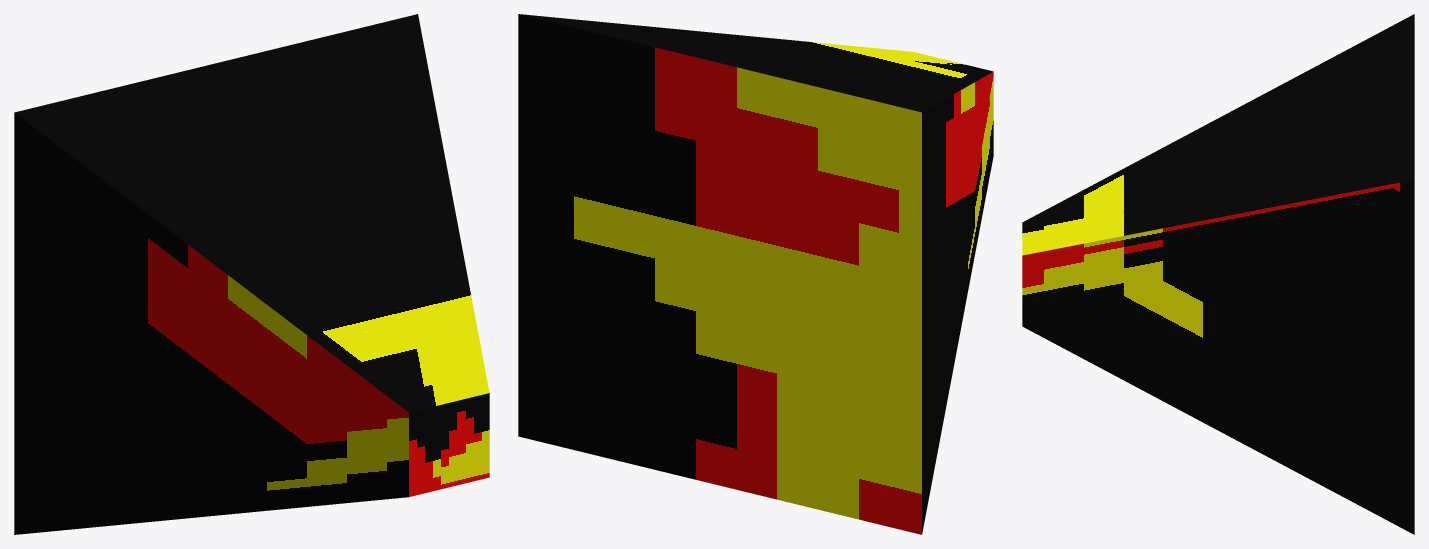
Rendered from kostka.obj.
The picture shows the model from 3 angles, left to right: view 1: azimuth 30°, elevation 25°; view 2: azimuth 150°, elevation 25°; view 3: azimuth 270°, elevation 25°; orthographic projection. The views are drawn at different scales.
Parts seen in each view (by area): view 1: Box001; view 2: Box001; view 3: Box001.
Boxes of the visible parts, x1,y1,x2,y2 form: Box001: [14, 14, 489, 534]; Box001: [518, 14, 993, 534]; Box001: [1022, 14, 1414, 534].
Bounding box in the file's own units: 1 × 1 × 1.
